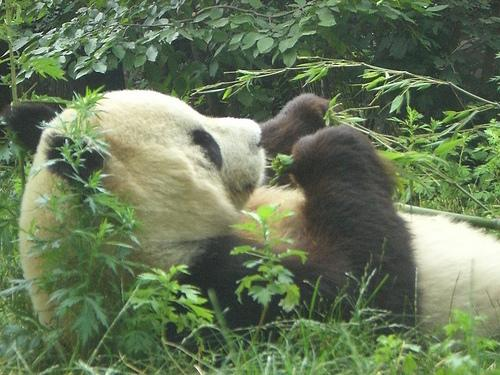panda: (6, 89, 500, 350)
